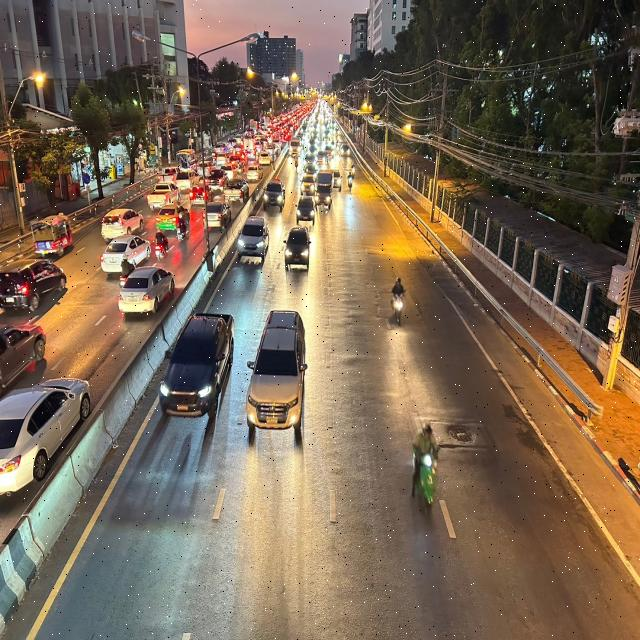bike: (400, 407, 448, 523)
